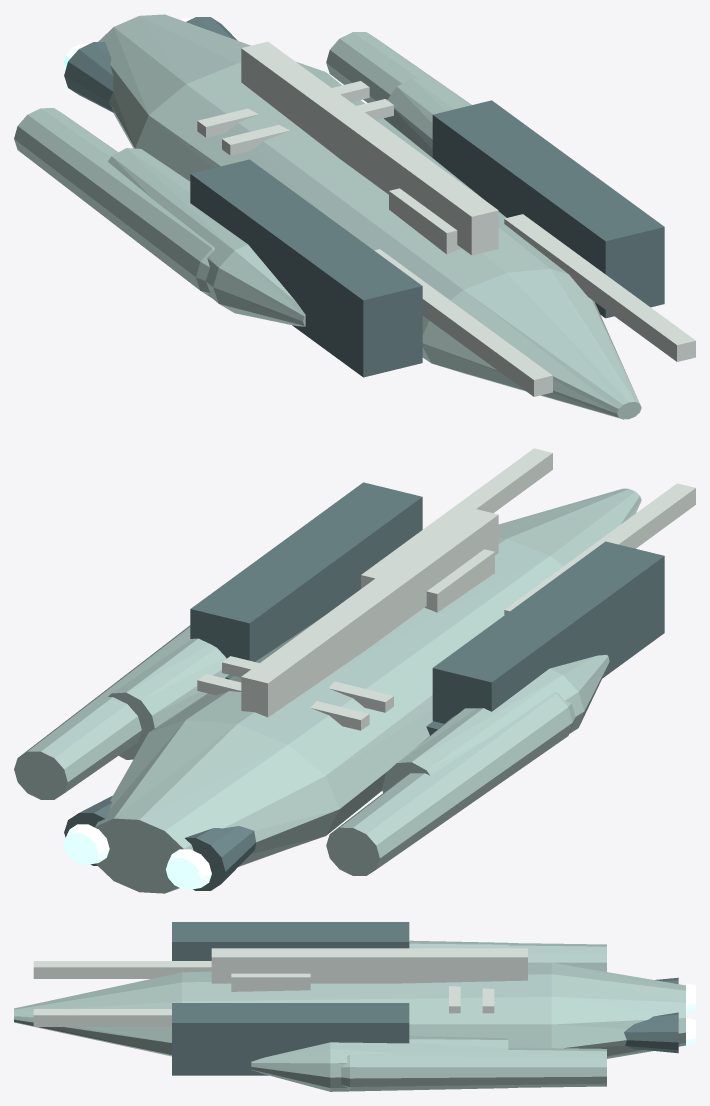
The picture shows the model from 3 angles, top to bottom: view 1: azimuth 30°, elevation 25°; view 2: azimuth 150°, elevation 25°; view 3: azimuth 270°, elevation 25°; orthographic projection. The views are drawn at different scales.
Size of the model in its own units: 2.72 by 1.05 by 6.21.
